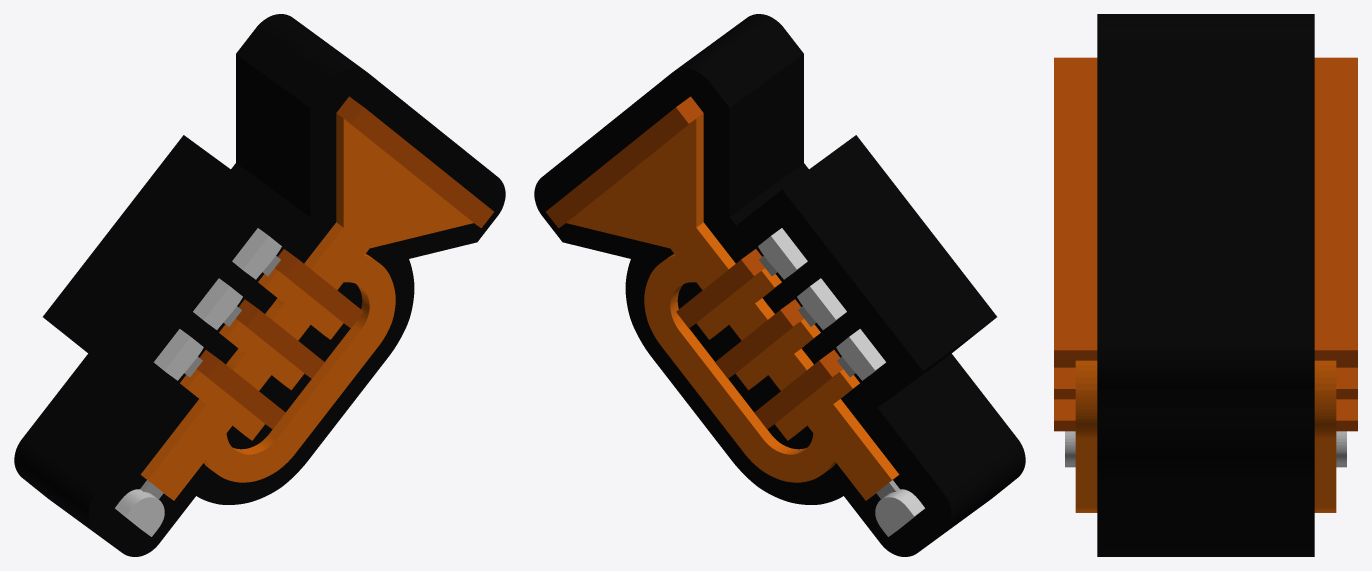
3 views of the same model, side by side, from view 1: azimuth 30°, elevation 25°; view 2: azimuth 150°, elevation 25°; view 3: azimuth 270°, elevation 25° (orthographic). The views are drawn at different scales.
Parts seen in each view (by area): view 1: U+1F3BA_layer00_obj00, U+1F3BA_layer02_obj00, U+1F3BA_layer04_obj00, U+1F3BA_layer03_obj00, U+1F3BA_layer01_obj00; view 2: U+1F3BA_layer00_obj00, U+1F3BA_layer02_obj00, U+1F3BA_layer04_obj00, U+1F3BA_layer03_obj00, U+1F3BA_layer01_obj00; view 3: U+1F3BA_layer00_obj00, U+1F3BA_layer04_obj00, U+1F3BA_layer02_obj00, U+1F3BA_layer03_obj00.
Boxes of the visible parts, bbox=[...] form: U+1F3BA_layer00_obj00: bbox=[14, 14, 505, 556]; U+1F3BA_layer02_obj00: bbox=[140, 113, 473, 500]; U+1F3BA_layer04_obj00: bbox=[197, 96, 493, 429]; U+1F3BA_layer03_obj00: bbox=[115, 228, 281, 536]; U+1F3BA_layer01_obj00: bbox=[140, 256, 280, 499]; U+1F3BA_layer00_obj00: bbox=[534, 14, 1025, 556]; U+1F3BA_layer02_obj00: bbox=[566, 113, 899, 500]; U+1F3BA_layer04_obj00: bbox=[546, 96, 842, 429]; U+1F3BA_layer03_obj00: bbox=[758, 228, 924, 536]; U+1F3BA_layer01_obj00: bbox=[759, 256, 899, 499]; U+1F3BA_layer00_obj00: bbox=[1097, 14, 1314, 556]; U+1F3BA_layer04_obj00: bbox=[1054, 57, 1357, 431]; U+1F3BA_layer02_obj00: bbox=[1075, 360, 1336, 512]; U+1F3BA_layer03_obj00: bbox=[1065, 431, 1346, 467].
Bounding box in the file's own units: 0.6491 × 0.649 × 0.28.
